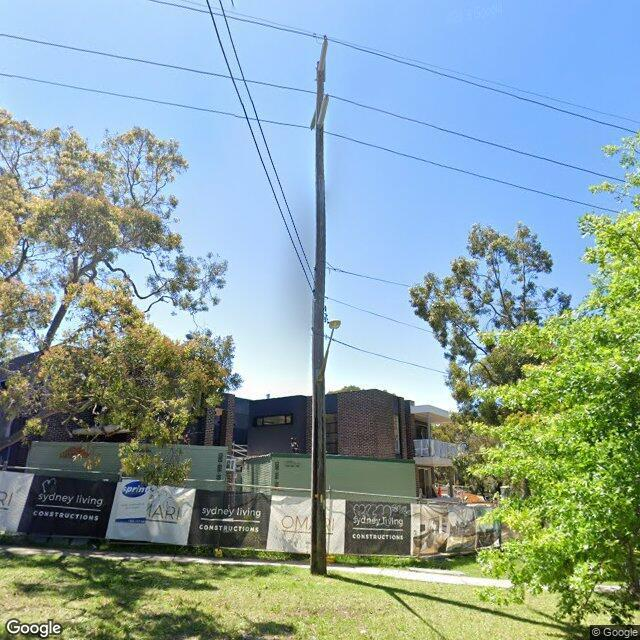HV-transmission: (309, 36, 331, 130)
streetlight: (316, 320, 341, 382)
timber-pole: (310, 61, 326, 575)
